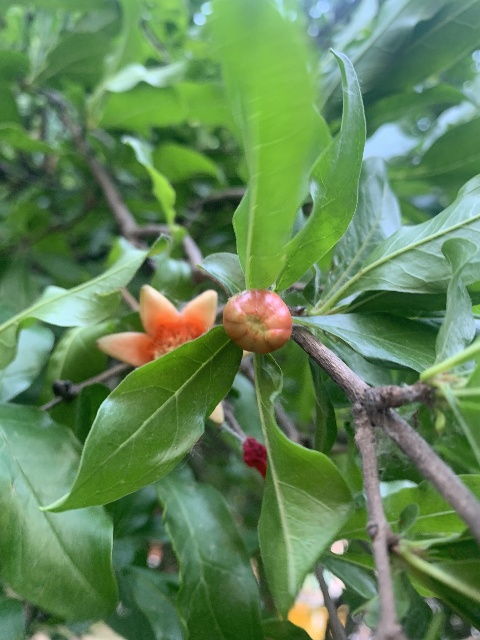bud: (223, 288, 292, 354)
flower: (96, 285, 225, 424)
